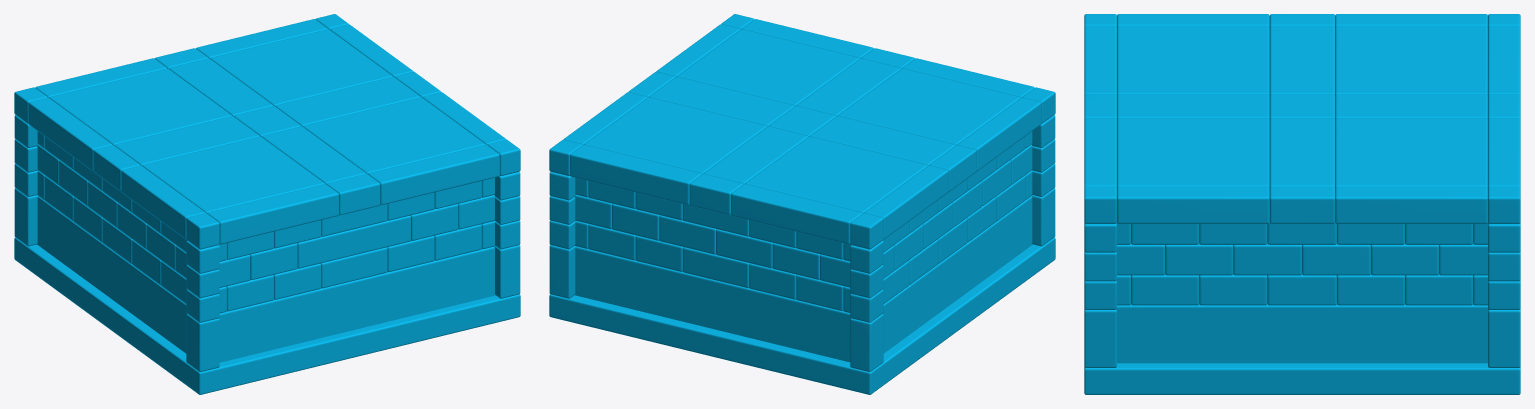
File: SM_Brick_Body_02.fbx
3 renders of one model, left to right at view 1: azimuth 30°, elevation 25°; view 2: azimuth 150°, elevation 25°; view 3: azimuth 270°, elevation 25°, orthographic. The views are drawn at different scales.
Parts seen in each view (by area): view 1: SM_Brick_Body_02; view 2: SM_Brick_Body_02; view 3: SM_Brick_Body_02.
Boxes of the visible parts, x1,y1,x2,y2 form: SM_Brick_Body_02: [14, 14, 520, 394]; SM_Brick_Body_02: [549, 14, 1055, 394]; SM_Brick_Body_02: [1084, 14, 1520, 394].
Bounding box in the file's own units: 5 × 2.5 × 5.
